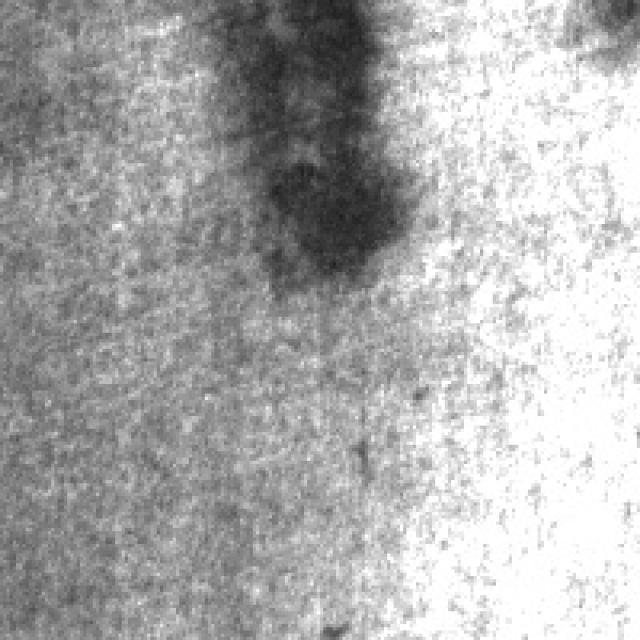patches: (227, 0, 400, 288)
